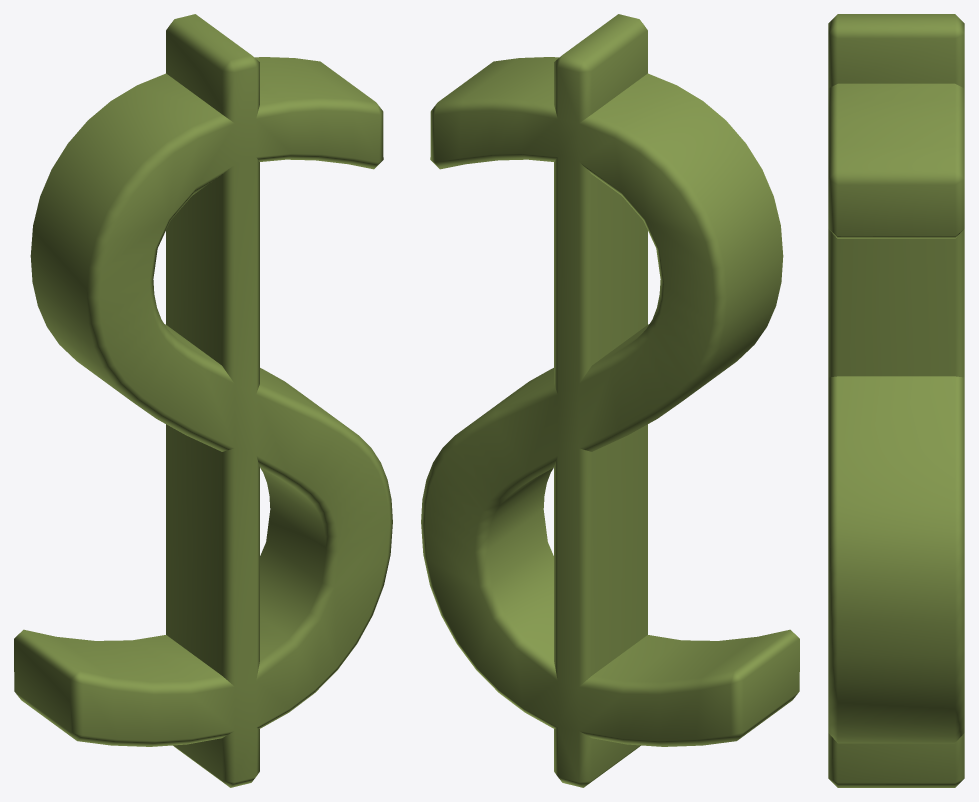
The model's file is Dollar.fbx.
The picture shows the model from 3 angles, left to right: view 1: azimuth 30°, elevation 25°; view 2: azimuth 150°, elevation 25°; view 3: azimuth 270°, elevation 25°; orthographic projection. The views are drawn at different scales.
Visible parts, largest first — view 1: Dollar; view 2: Dollar; view 3: Dollar.
Part boxes in pixels (box(x1,y1,x2,y2)): Dollar: box(14, 14, 392, 787); Dollar: box(421, 14, 799, 787); Dollar: box(828, 14, 964, 787).
Bounding box in the file's own units: 2.04 × 4.4 × 0.7131.
